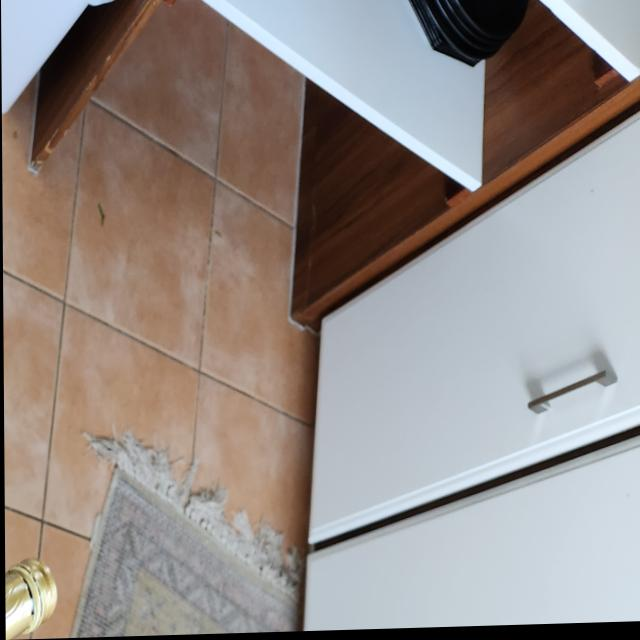red wine vinegar: (4, 562, 58, 640)
